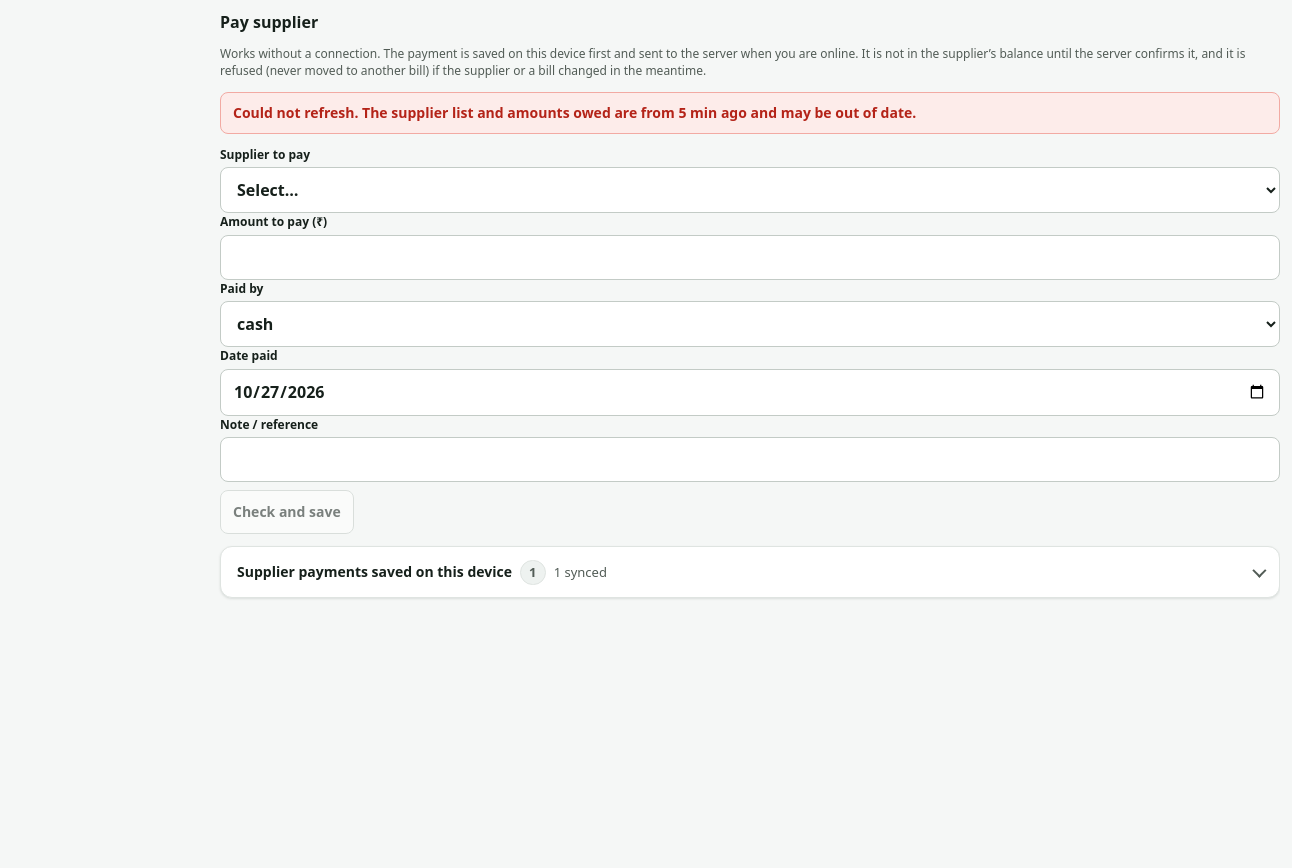
Scenario: a payment SYNCED after the stale copy was saved still reduces owed and the bill limit
The width and height of the screenshot is (1292, 868).
Select "Acme Traders — owed ₹15,000.00" in the dropdown labelled "Supplier to pay" at (750, 190), box [220,167,1280,213]
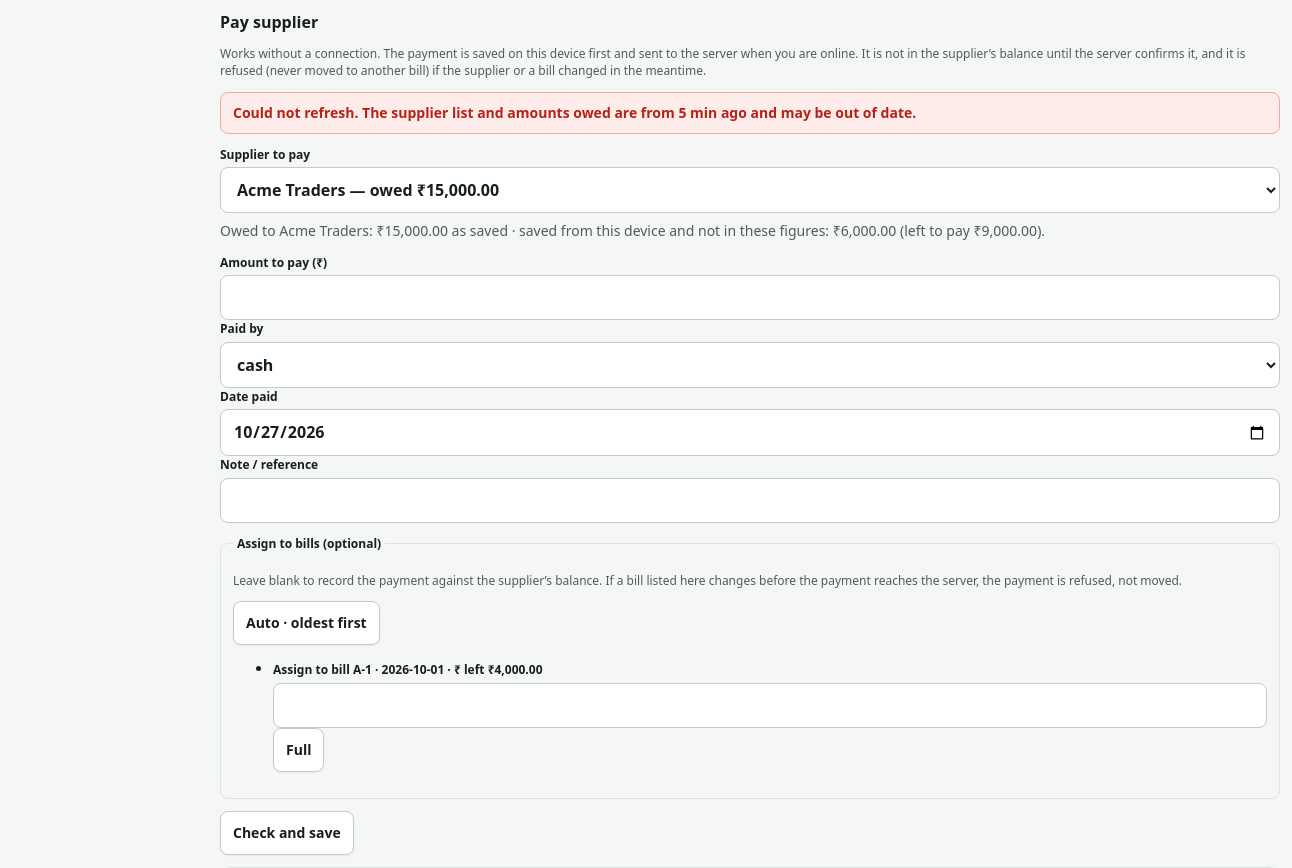
Check: the text with test id "pay-supplier-owed" shows "not in these figures: ₹6,000.00 (left to pay ₹9,000.00)", box [508,221,1041,240]
Check: the text "₹ left ₹4,000.00" is shown, box [273,662,1267,728]
